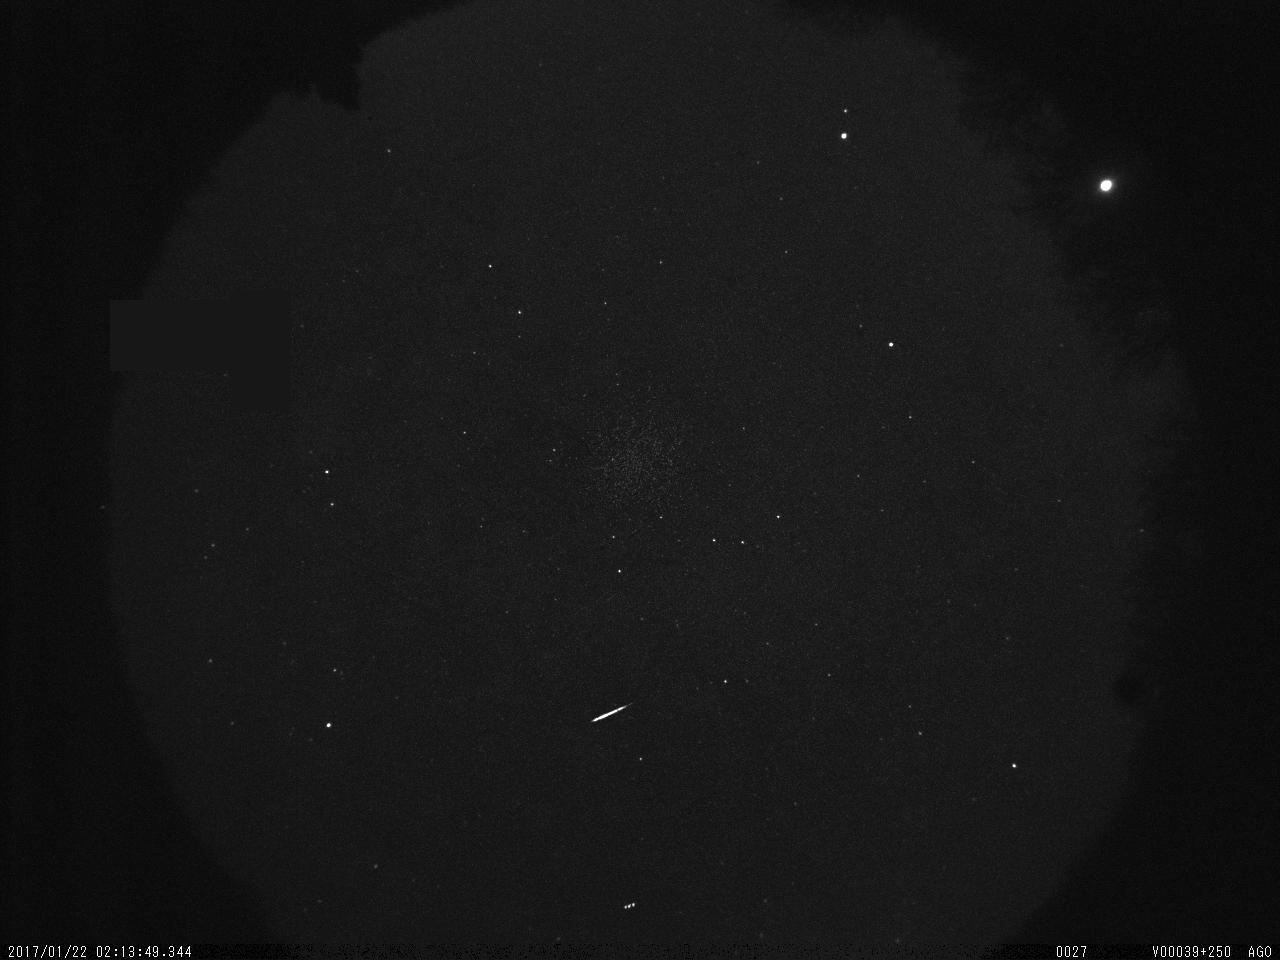meteor: (584, 695, 646, 730)
